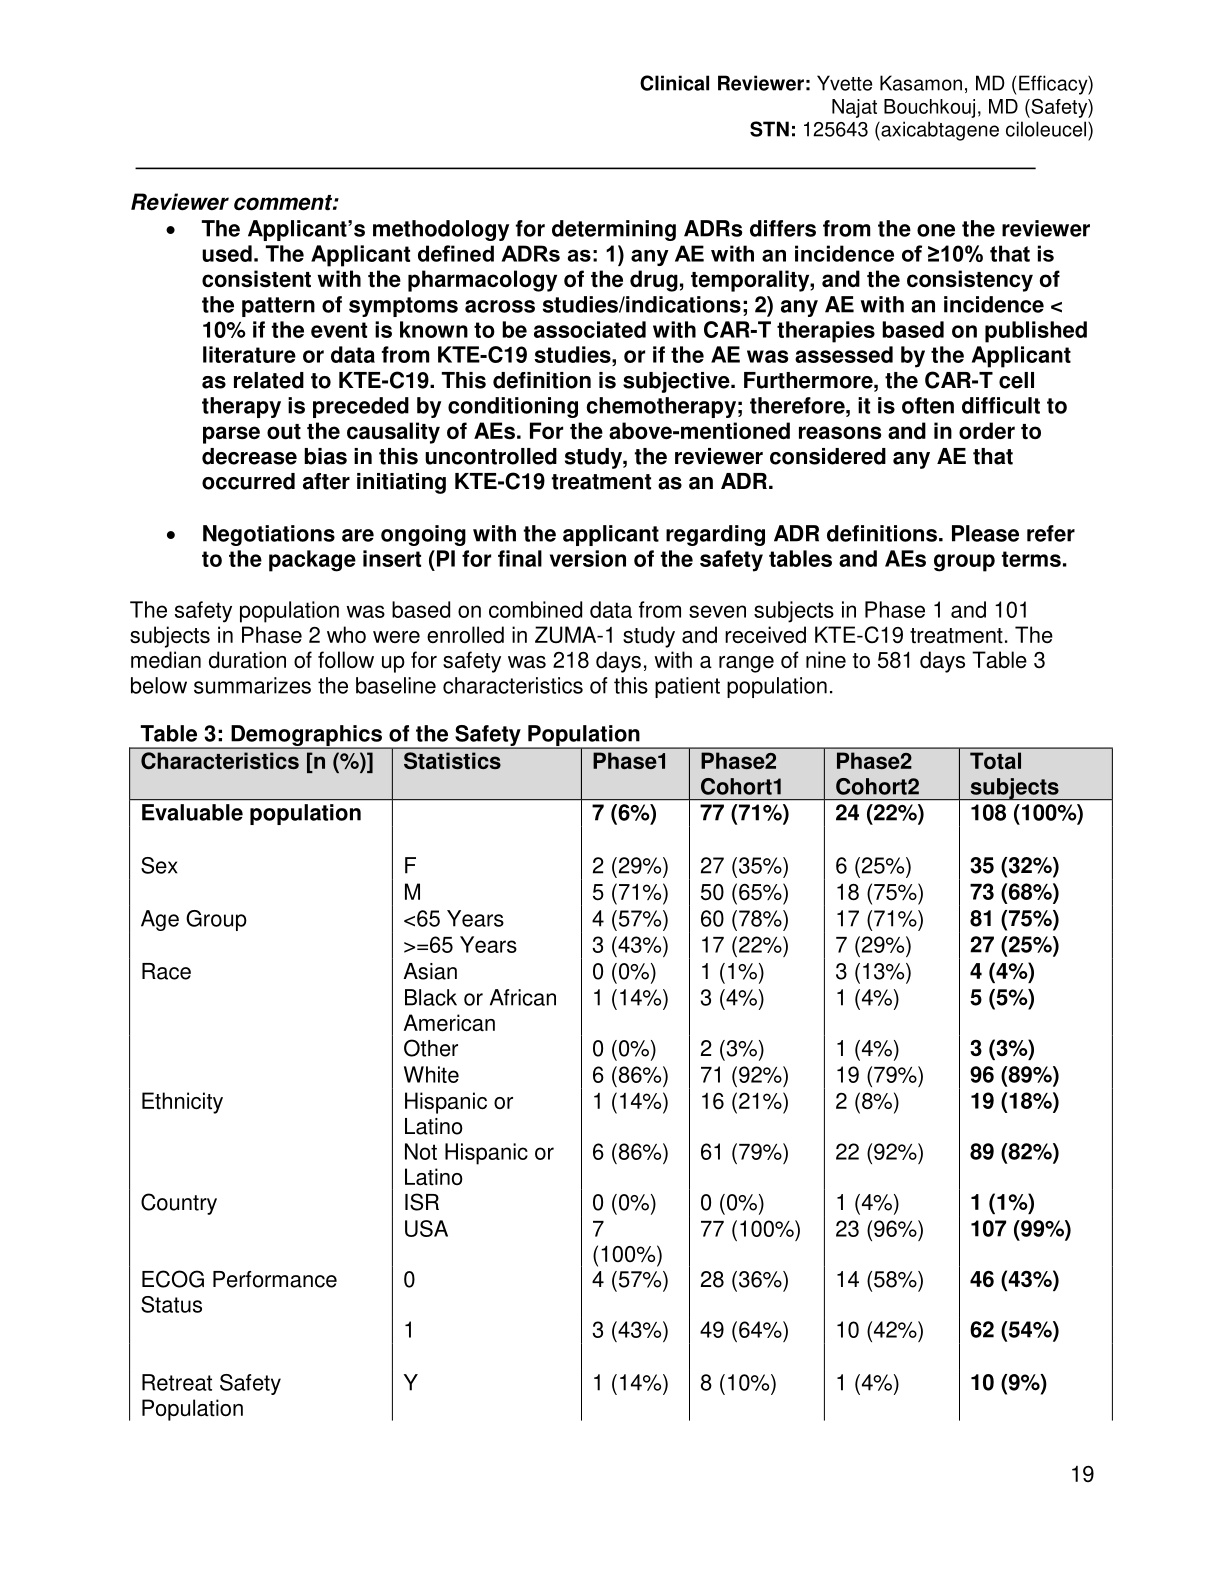partial_lined: (127, 744, 1113, 1423)
